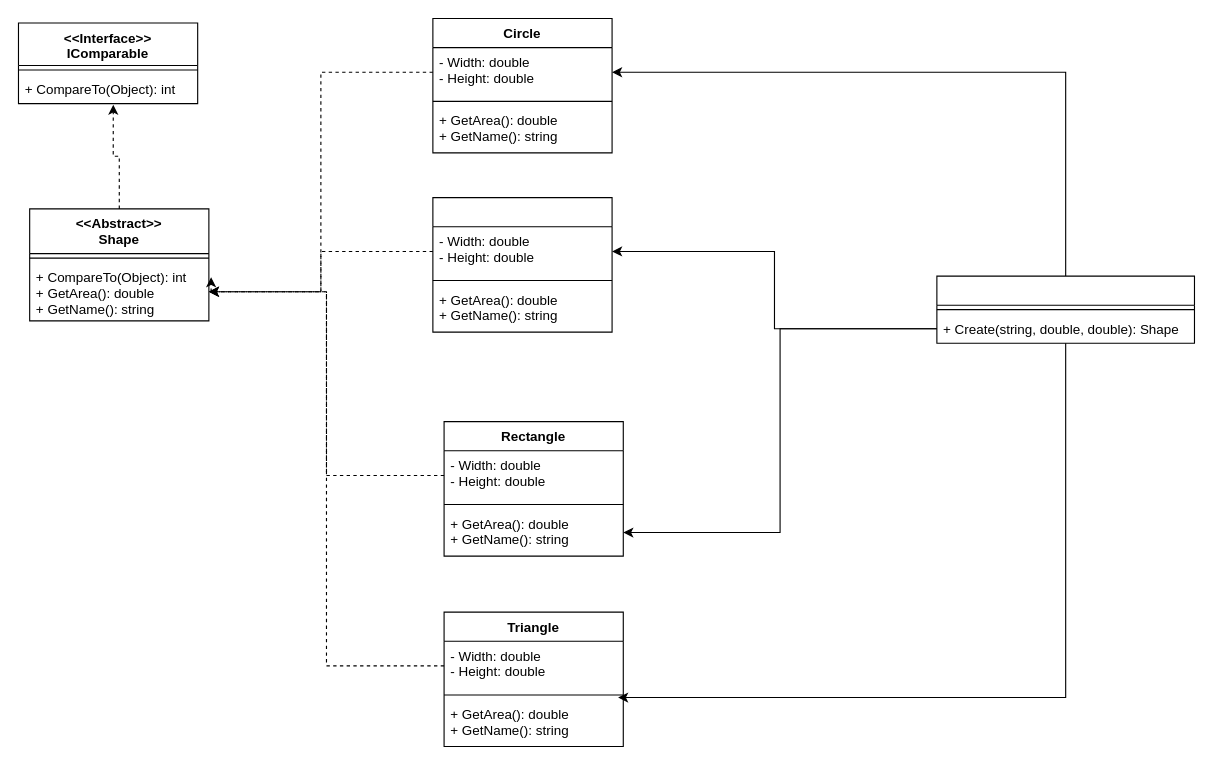
This 1213x765 diagram has some shape labels left out. The box of each missing label's shape, as (x1, y1, x2, y2) in pixels:
ShapeFactory: (936, 275, 1194, 343)
Square: (432, 197, 612, 332)
